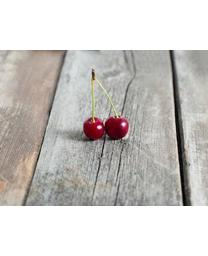cherry: (104, 116, 129, 140), (81, 116, 104, 139)
